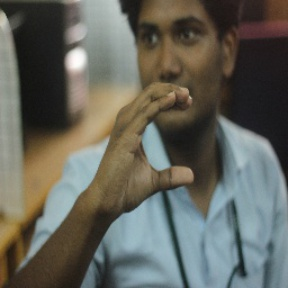C: (106, 79, 208, 198)
